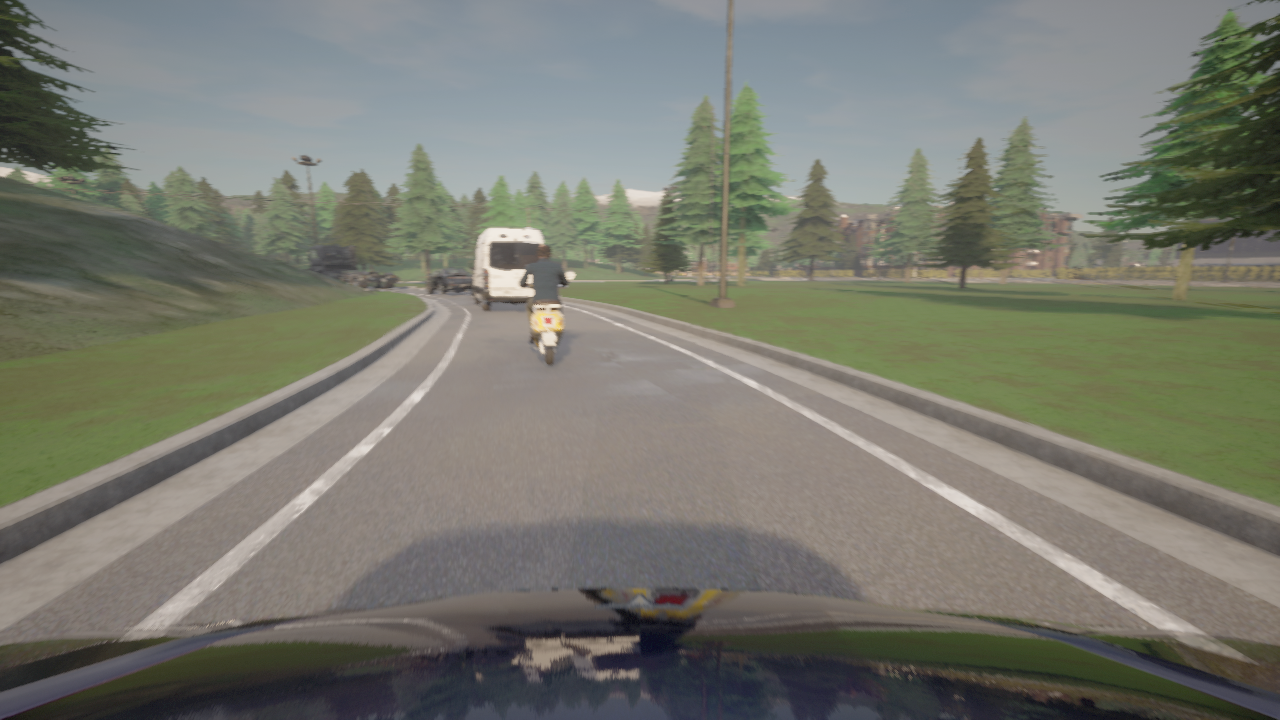cyclist: (0, 588, 1279, 719), (468, 228, 543, 311), (513, 271, 573, 365), (307, 245, 399, 289), (427, 268, 473, 295)
